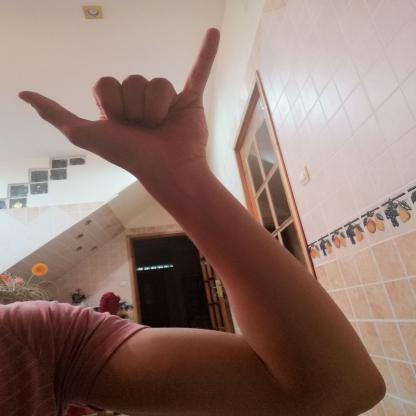YA: (8, 19, 241, 188)
